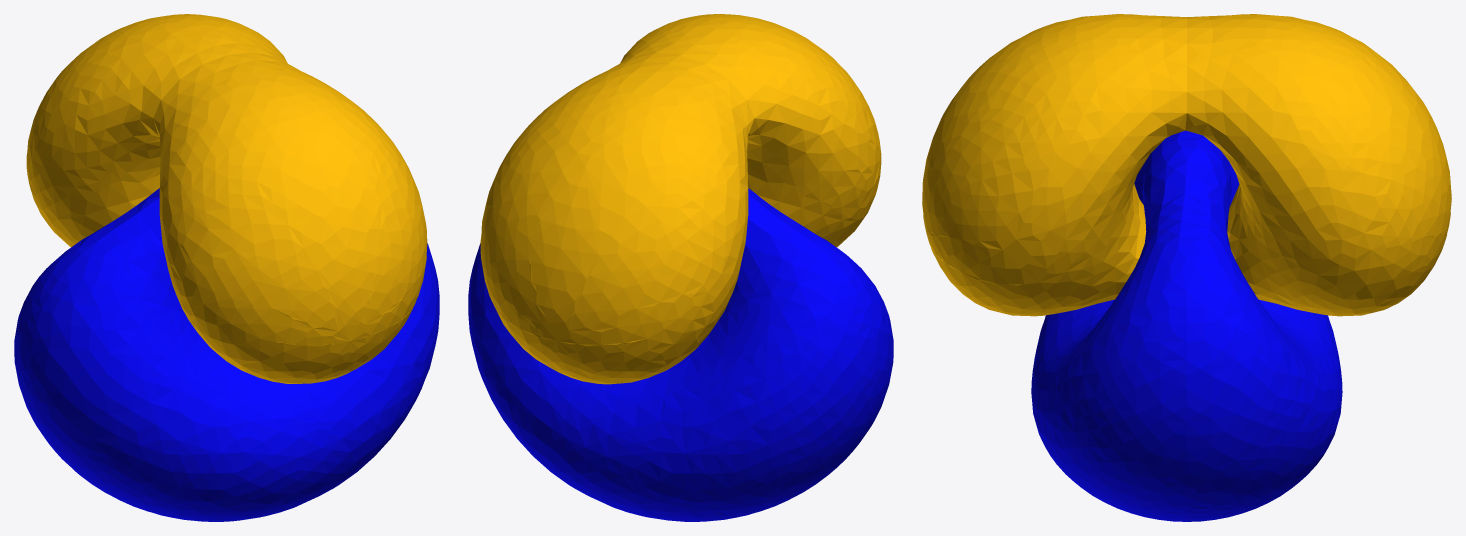
3 views of the same model, side by side, from view 1: azimuth 30°, elevation 25°; view 2: azimuth 150°, elevation 25°; view 3: azimuth 270°, elevation 25° (orthographic). The views are drawn at different scales.
Bounding box in the file's own units: 18.03 × 19.72 × 20.09.
